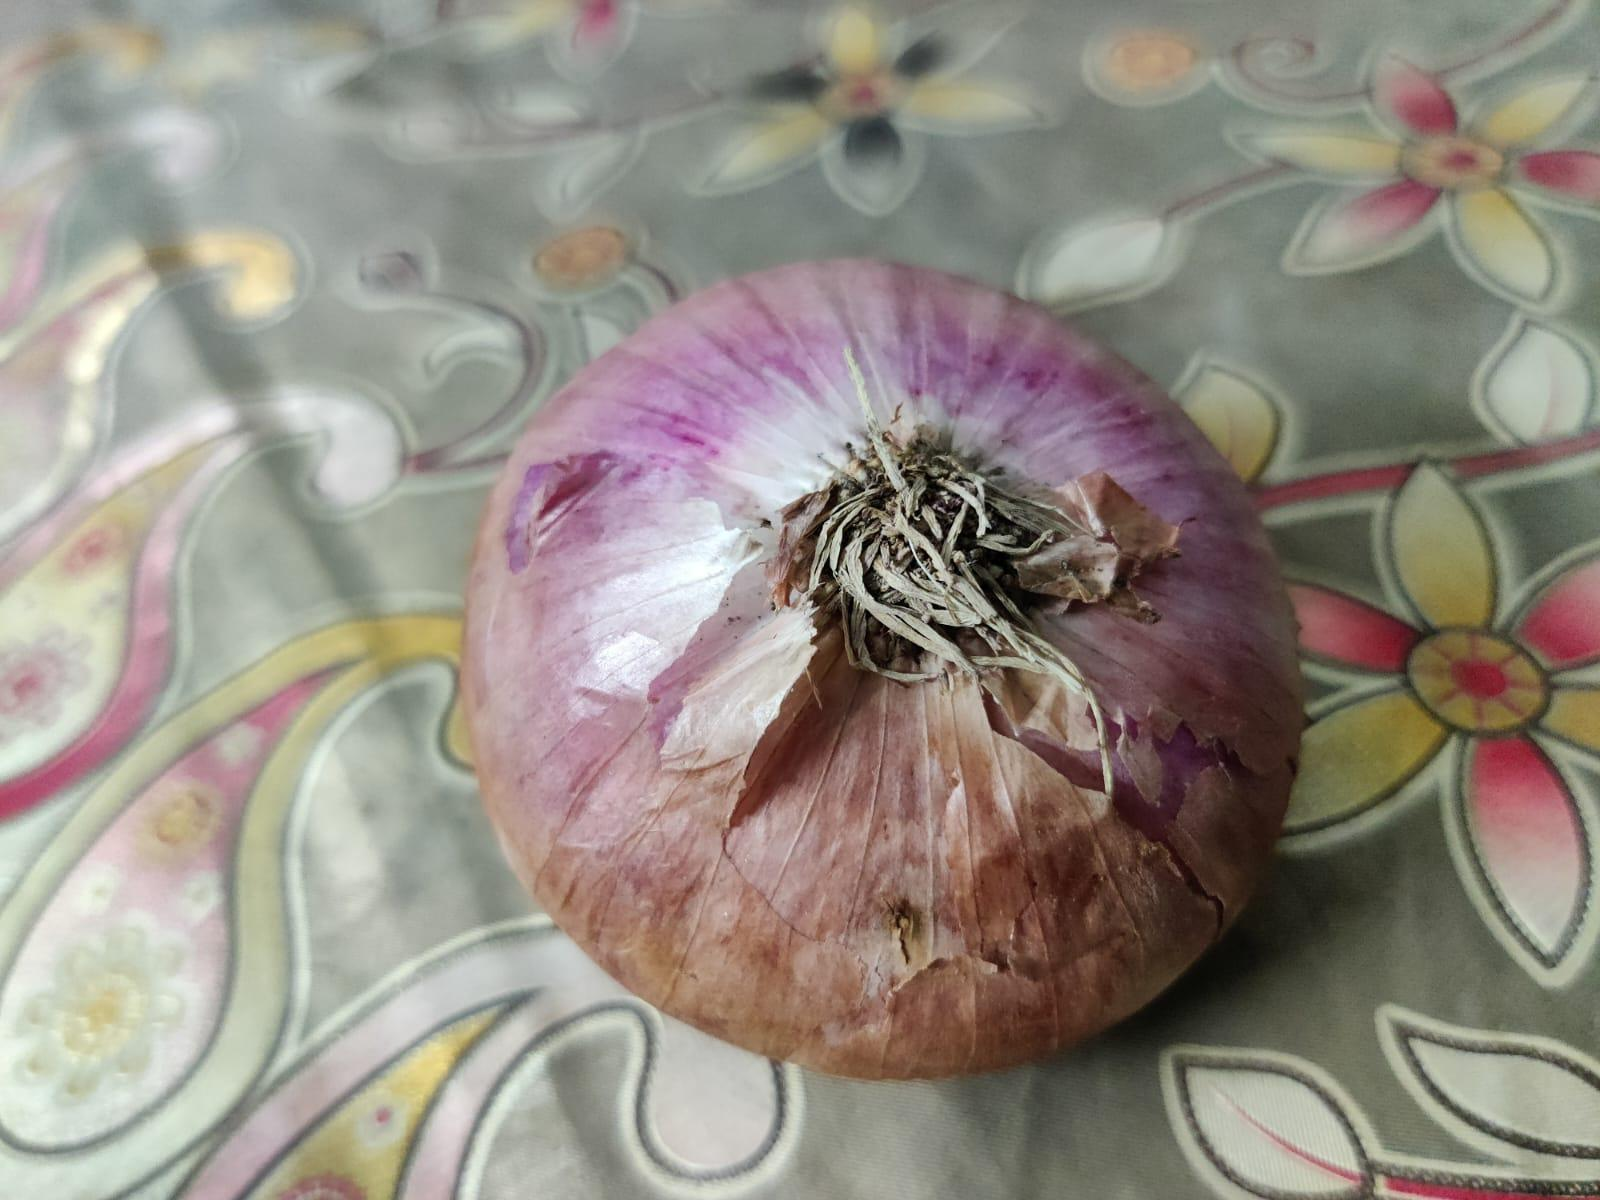non-mango: (466, 245, 1309, 1083)
